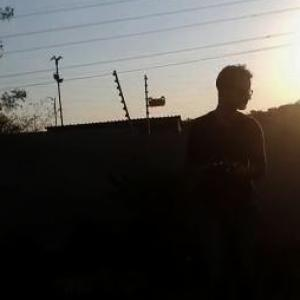follow: (180, 60, 272, 299)
